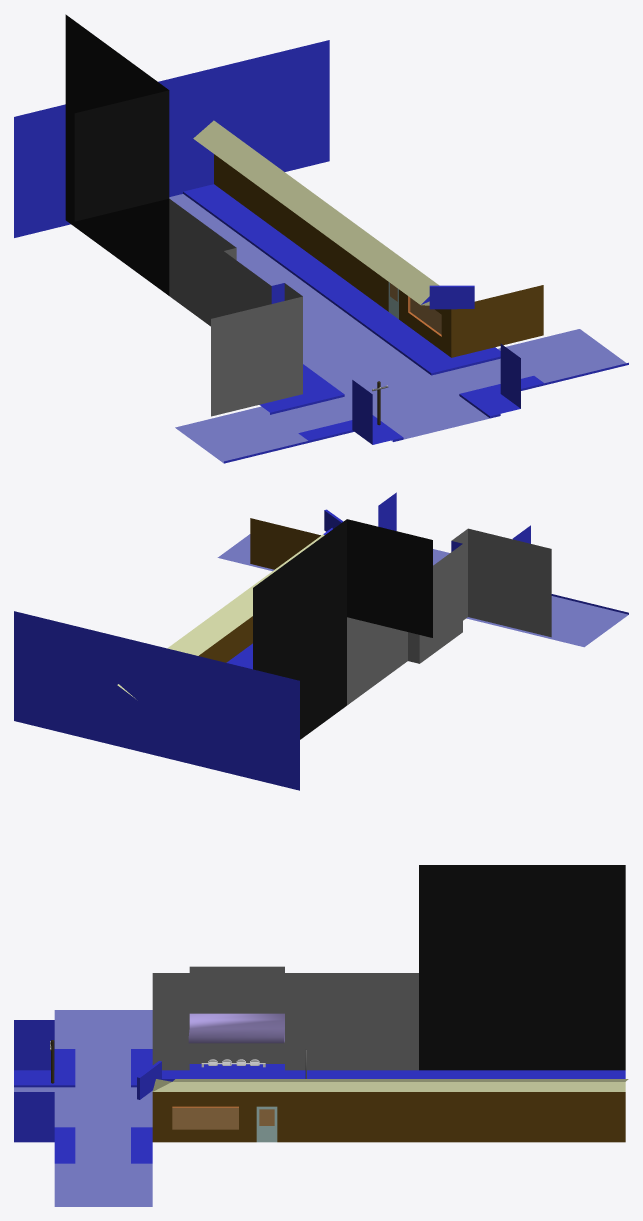
File: Cenario novo.fbx
3 renders of one model, top to bottom at view 1: azimuth 30°, elevation 25°; view 2: azimuth 150°, elevation 25°; view 3: azimuth 270°, elevation 25°, orthographic. The views are drawn at different scales.
Parts seen in each view (by area): view 1: Cenario; view 2: Cenario; view 3: Cenario.
Boxes of the visible parts, x1,y1,x2,y2 form: Cenario: (14,14,628,463); Cenario: (14,492,628,790); Cenario: (14,865,628,1206).
Size of the model in its own units: 293 by 146 by 386.
